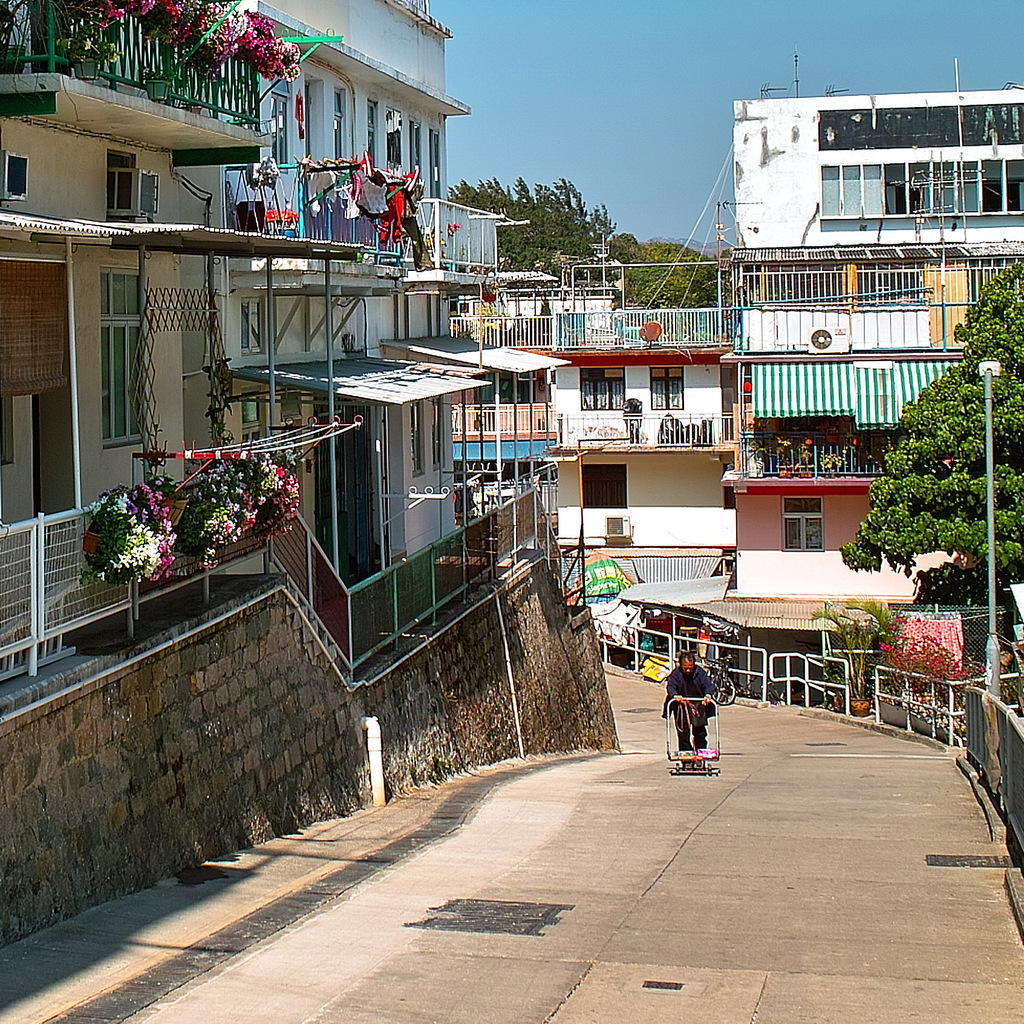Tree: (826, 230, 1023, 629), (421, 165, 690, 312)
